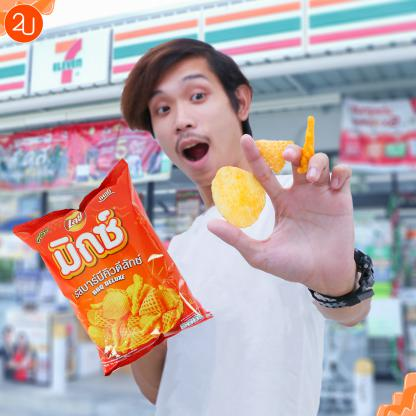potatochip: (9, 155, 218, 382)
